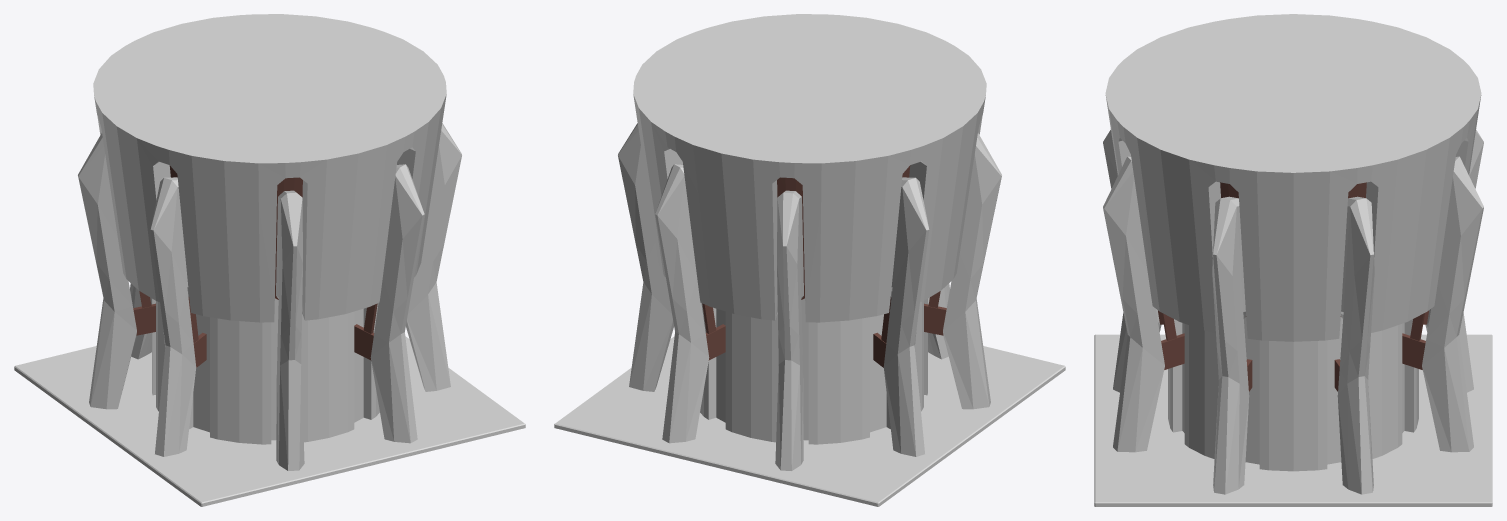
3 renders of one model, left to right at view 1: azimuth 30°, elevation 25°; view 2: azimuth 150°, elevation 25°; view 3: azimuth 270°, elevation 25°, orthographic. The views are drawn at different scales.
Parts seen in each view (by area): view 1: 4x4A; view 2: 4x4A; view 3: 4x4A.
Part boxes in pixels (box(x1,y1,x2,y2)): 4x4A: box(14, 14, 525, 506); 4x4A: box(554, 14, 1065, 506); 4x4A: box(1094, 14, 1492, 506).
Size of the model in its own units: 400 by 365 by 400.
